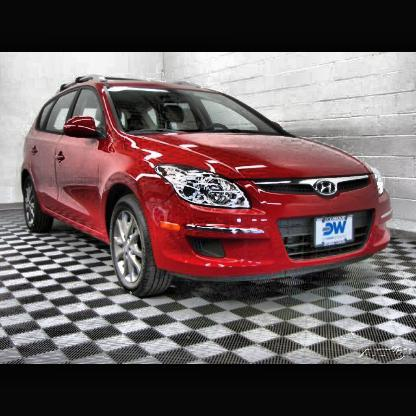Hyundai Elantra Touring Hatchback 2012: (19, 74, 396, 300)
